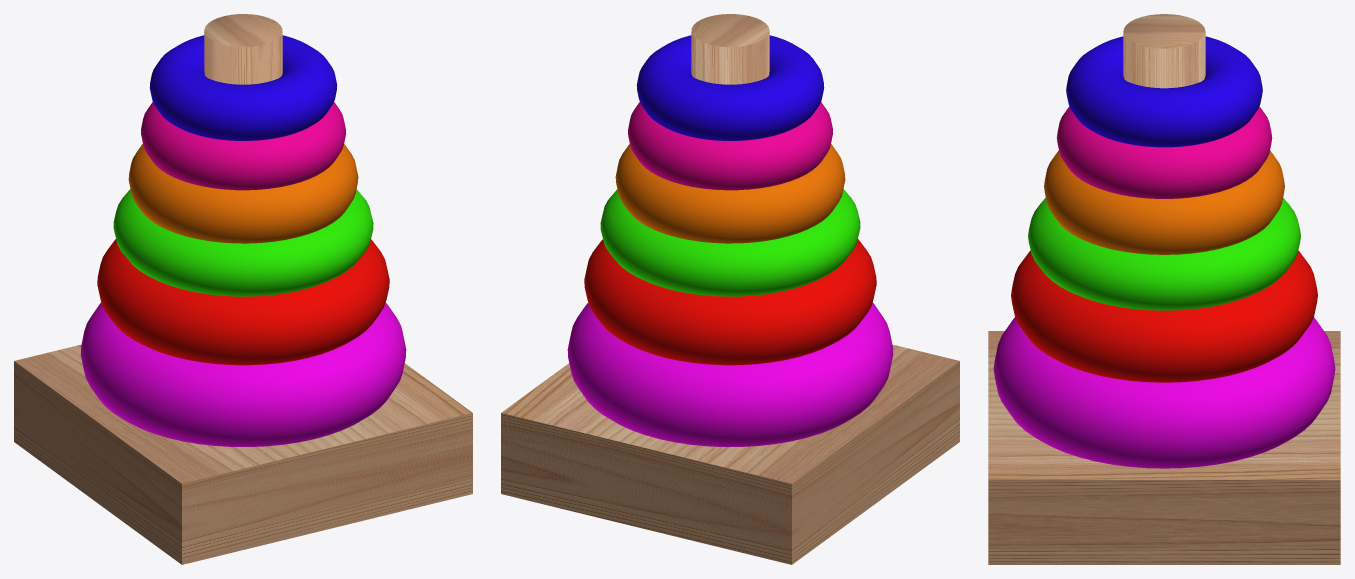
The model's file is jouet cercle.fbx.
The picture shows the model from 3 angles, left to right: view 1: azimuth 30°, elevation 25°; view 2: azimuth 150°, elevation 25°; view 3: azimuth 270°, elevation 25°; orthographic projection. The views are drawn at different scales.
Visible parts, largest first — view 1: Cube; view 2: Cube; view 3: Cube.
Part boxes in pixels (<box>): Cube: <box>14,14,472,564</box>; Cube: <box>501,14,959,564</box>; Cube: <box>988,14,1340,564</box>.
Size of the model in its own units: 245 by 353 by 245.
7 materials, 1 textured.
